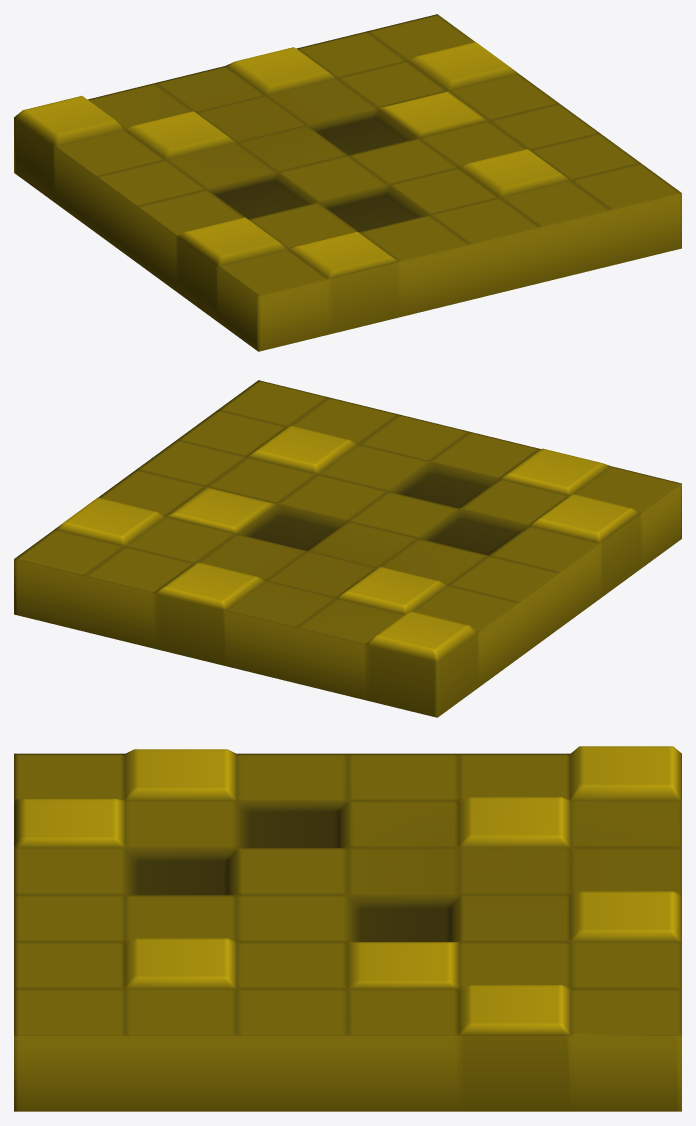
The model's file is Ground1.fbx.
3 views of the same model, one above another, from view 1: azimuth 30°, elevation 25°; view 2: azimuth 150°, elevation 25°; view 3: azimuth 270°, elevation 25° (orthographic). The views are drawn at different scales.
Visible parts, largest first — view 1: Ground1; view 2: Ground1; view 3: Ground1.
Part boxes in pixels (x1,y1,x2,y2): Ground1: (14, 14, 681, 351); Ground1: (14, 380, 681, 717); Ground1: (14, 746, 681, 1111).
Size of the model in its own units: 200 by 28.72 by 200.
